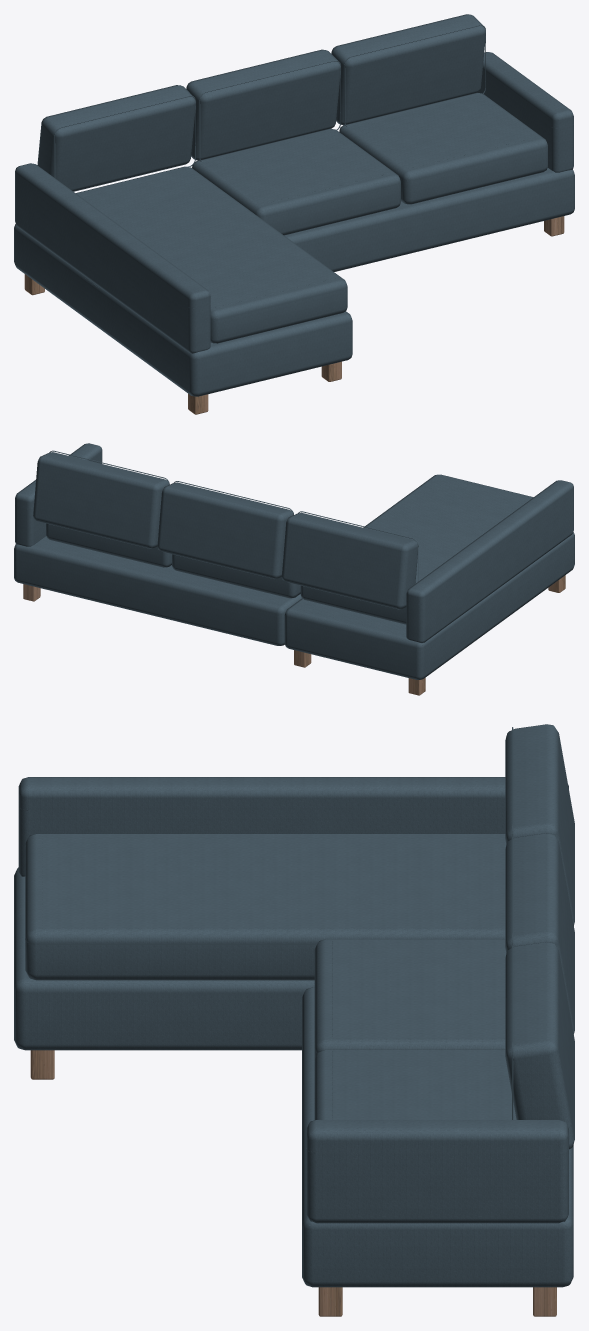
The model's file is everyday-sectional-tailored-left.glb.
3 views of the same model, one above another, from view 1: azimuth 30°, elevation 25°; view 2: azimuth 150°, elevation 25°; view 3: azimuth 270°, elevation 25° (orthographic). The views are drawn at different scales.
Parts seen in each view (by area): view 1: everyday-sectional-tailored-left authored assembly; view 2: everyday-sectional-tailored-left authored assembly; view 3: everyday-sectional-tailored-left authored assembly.
Boxes of the visible parts, x1=… form: everyday-sectional-tailored-left authored assembly: x1=14, y1=14, x2=574, y2=414; everyday-sectional-tailored-left authored assembly: x1=14, y1=443, x2=574, y2=695; everyday-sectional-tailored-left authored assembly: x1=14, y1=724, x2=574, y2=1316.
Bounding box in the file's own units: 2.65 × 0.9 × 1.75.
Materials: 3 (2 with a texture image).
